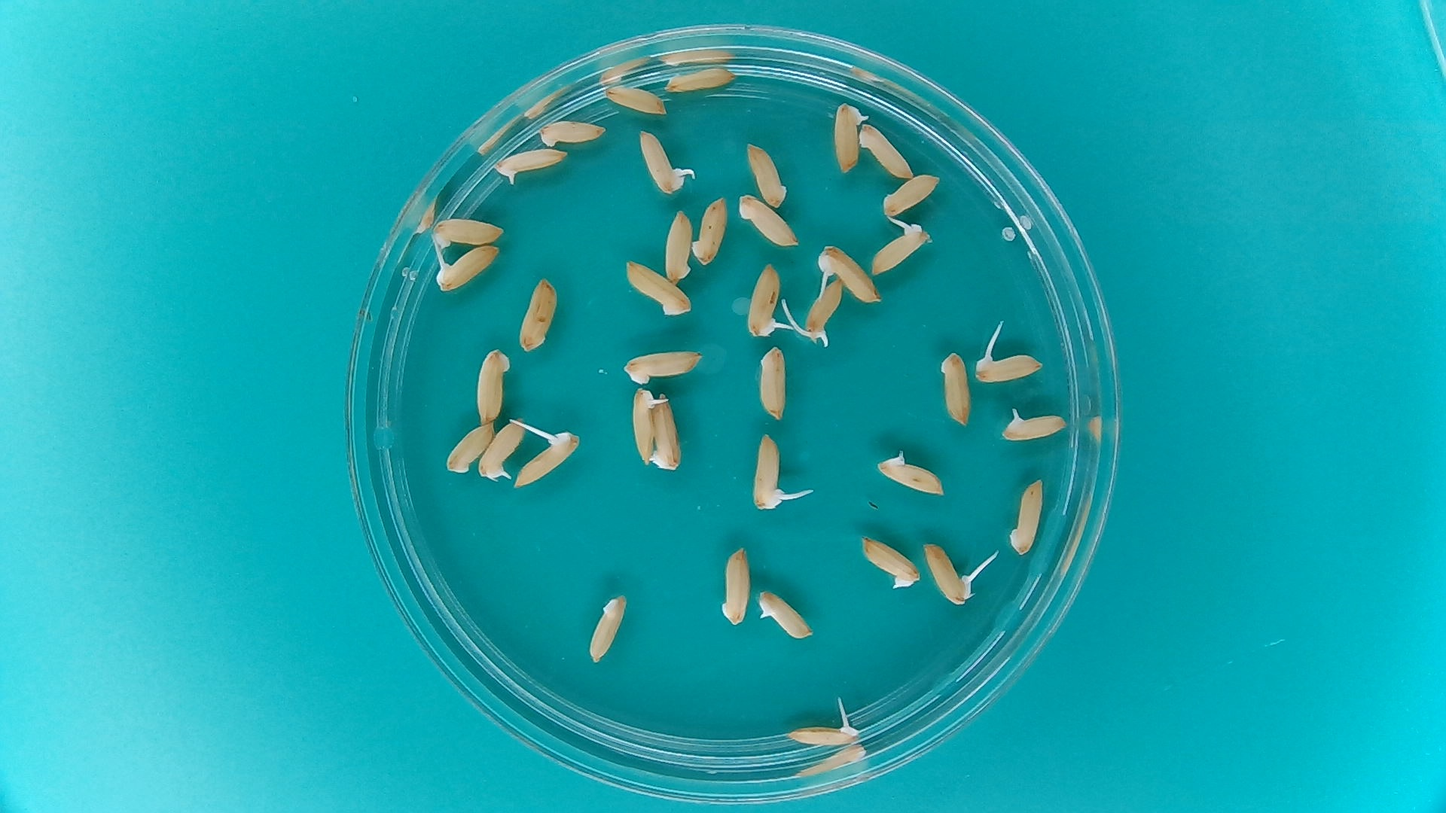no: (621, 257, 695, 318), (582, 588, 632, 667), (734, 192, 801, 248), (516, 273, 560, 355), (621, 345, 707, 385), (441, 419, 498, 478), (471, 346, 512, 428), (1006, 473, 1045, 557), (859, 120, 914, 179), (744, 141, 790, 210), (430, 212, 506, 251), (716, 543, 751, 627), (936, 349, 972, 429), (649, 391, 684, 473), (691, 193, 729, 268), (881, 172, 942, 218), (755, 344, 789, 424), (598, 80, 668, 117), (535, 116, 608, 148), (663, 63, 737, 93)
yes: (509, 425, 581, 493), (814, 244, 884, 306), (869, 218, 934, 277), (873, 447, 948, 498), (921, 539, 978, 604), (432, 242, 503, 294), (859, 533, 922, 591), (636, 126, 688, 195), (474, 417, 528, 483), (743, 260, 786, 340), (754, 587, 816, 641), (492, 144, 570, 185), (751, 431, 791, 510), (831, 101, 873, 175), (803, 276, 845, 346), (998, 405, 1069, 442), (971, 348, 1044, 383), (627, 385, 657, 468), (783, 717, 862, 748)
